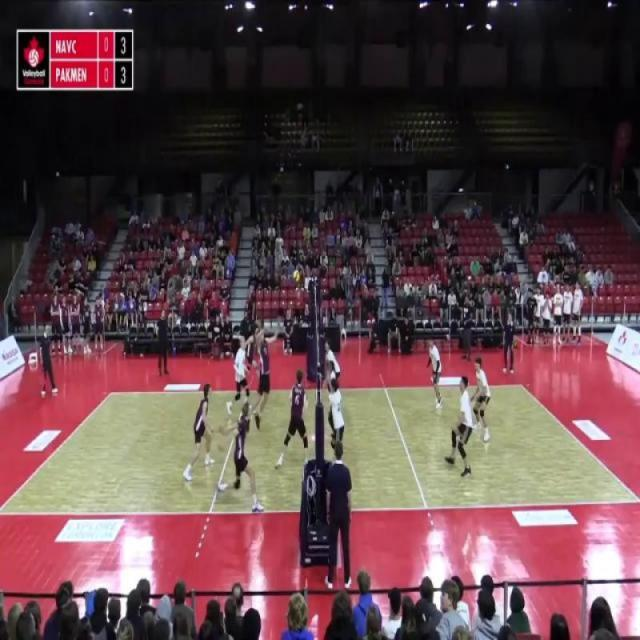volleyball: (292, 269, 300, 284)
